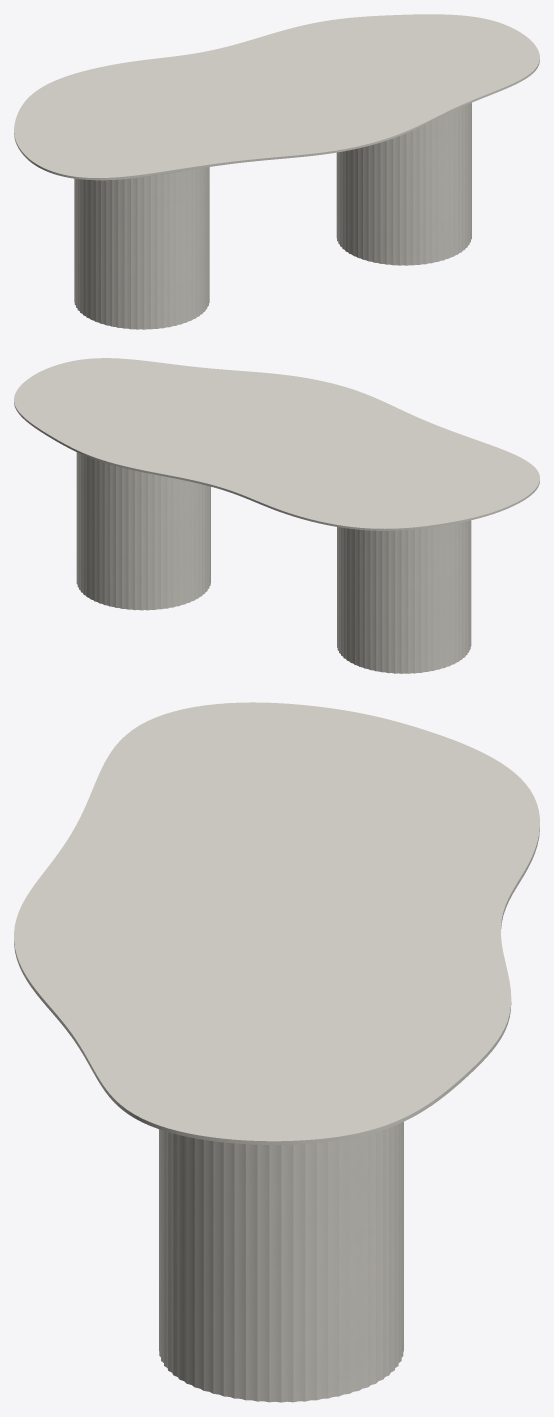
The model's file is pale_toplast_facet_ripplesecond.glb.
The picture shows the model from 3 angles, top to bottom: view 1: azimuth 30°, elevation 25°; view 2: azimuth 150°, elevation 25°; view 3: azimuth 270°, elevation 25°; orthographic projection. The views are drawn at different scales.
Visible parts, largest first — view 1: facet_toplast, ripplesecond; view 2: facet_toplast, ripplesecond; view 3: facet_toplast, ripplesecond.
Part boxes in pixels (x1,y1,x2,y2): facet_toplast: [14, 14, 539, 180]; ripplesecond: [74, 103, 471, 329]; facet_toplast: [14, 358, 539, 530]; ripplesecond: [76, 452, 471, 673]; facet_toplast: [14, 702, 539, 1144]; ripplesecond: [159, 1122, 403, 1402].
Bounding box in the file's own units: 7.5 × 2.5 × 3.8.
1 material, 1 textured.
